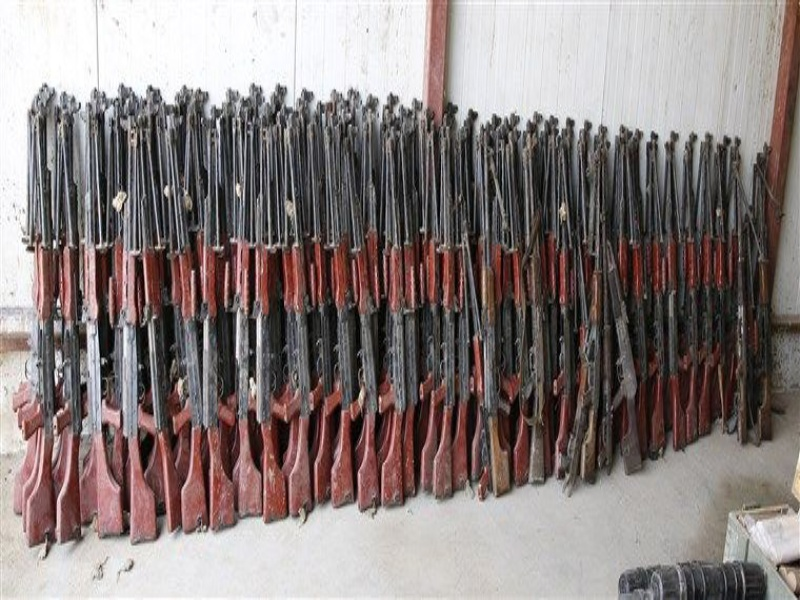gun: (117, 107, 165, 535), (193, 127, 236, 523), (472, 130, 519, 490), (246, 134, 289, 520), (55, 102, 91, 538), (31, 89, 63, 535), (369, 136, 408, 498), (429, 120, 461, 493), (522, 154, 556, 483), (325, 115, 354, 499), (661, 140, 693, 442), (605, 250, 647, 472), (747, 209, 778, 433)
